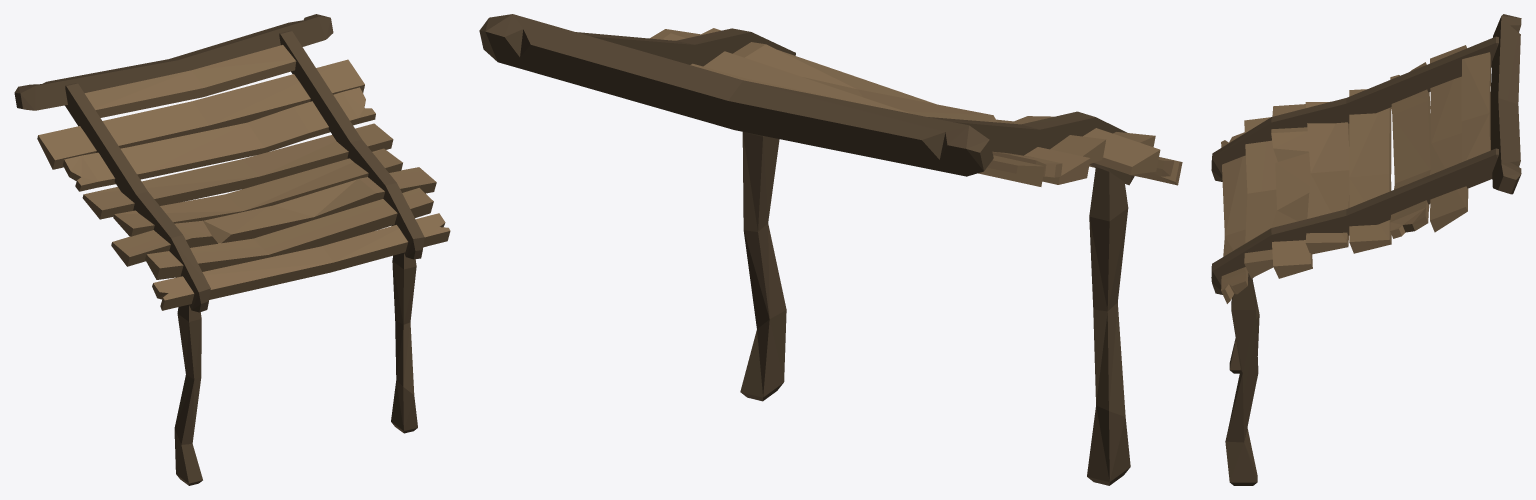
The model's file is SM_Bld_Leanto_01.gltf.
3 renders of one model, left to right at view 1: azimuth 30°, elevation 25°; view 2: azimuth 150°, elevation 25°; view 3: azimuth 270°, elevation 25°, orthographic. The views are drawn at different scales.
Parts seen in each view (by area): view 1: SM_Bld_Leanto_01; view 2: SM_Bld_Leanto_01; view 3: SM_Bld_Leanto_01.
Part boxes in pixels (x1,y1,x2,y2): SM_Bld_Leanto_01: [14, 14, 450, 485]; SM_Bld_Leanto_01: [479, 14, 1182, 485]; SM_Bld_Leanto_01: [1211, 14, 1521, 485].
Bounding box in the file's own units: 3.42 × 3.32 × 2.77.
1 material, 1 textured.
